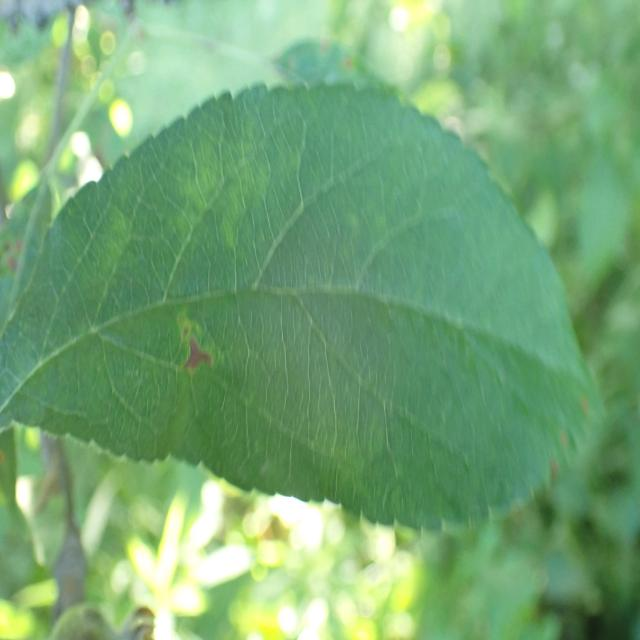scab: (67, 108, 391, 495)
